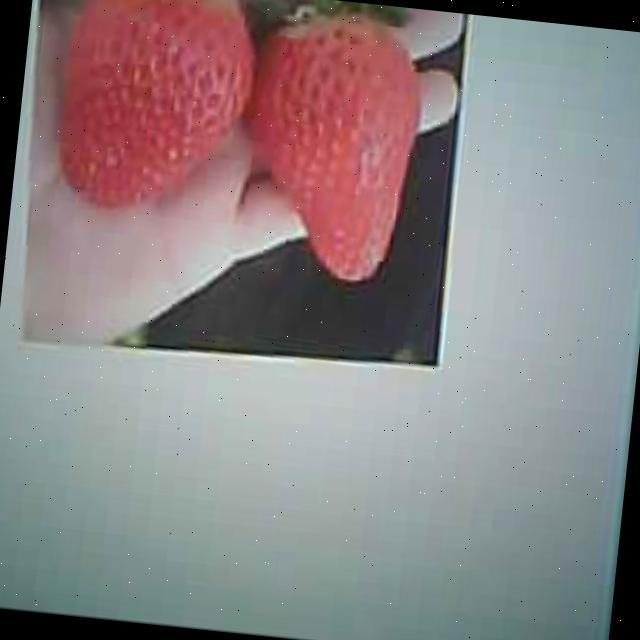strawberry: (229, 0, 423, 287), (53, 0, 258, 221)
